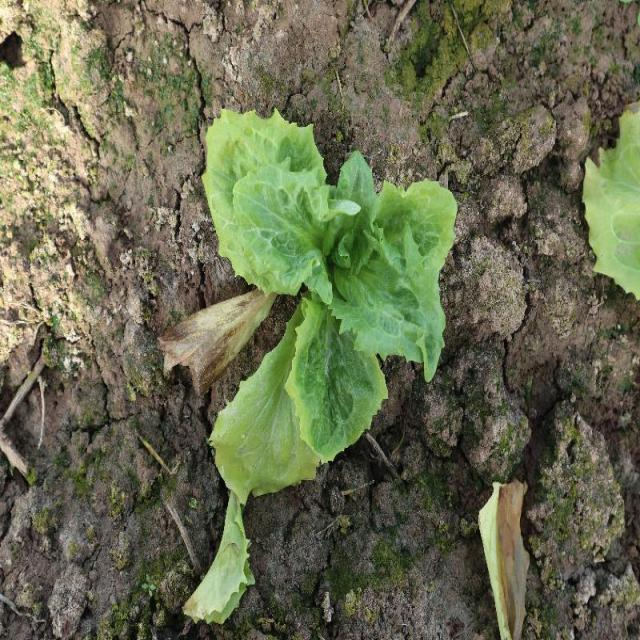crop: (207, 108, 460, 494)
